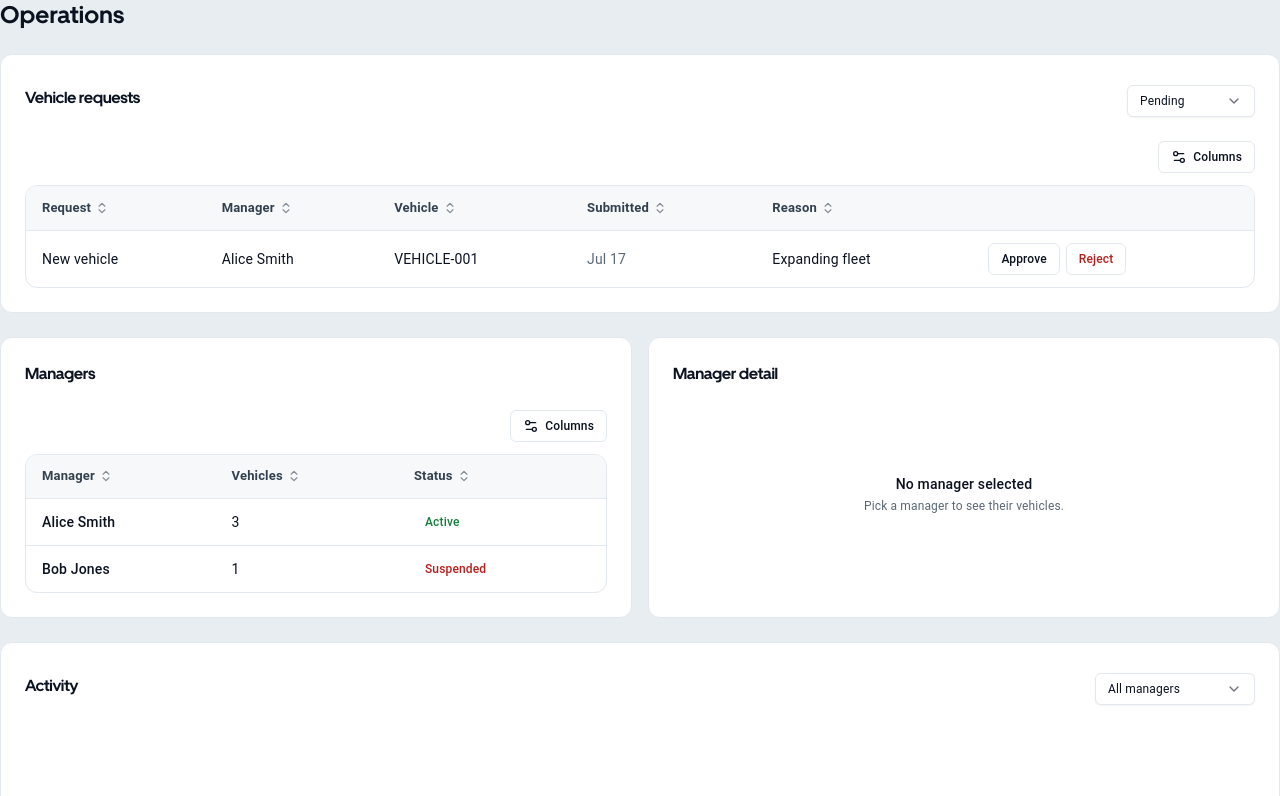
Scenario: OperationsPage › opens Reject ConfirmDialog with reason textarea
Click the button "Reject" at (1096, 258), box x1=1066 y1=242 x2=1126 y2=274
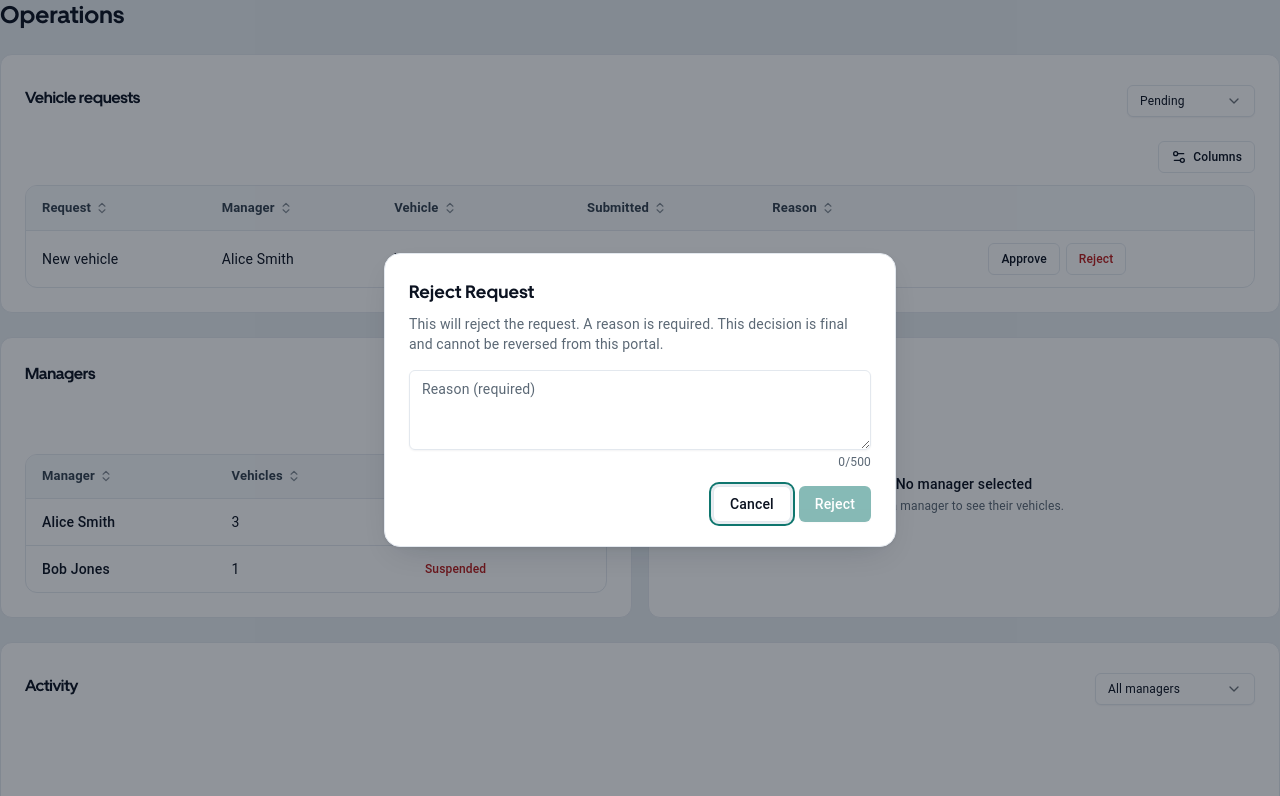
Check: the heading "Reject Request" is shown, box x1=409 y1=281 x2=534 y2=302
Check: the text box labelled "Reason (required)" is shown, box x1=409 y1=370 x2=871 y2=450
